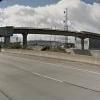Bridge: (5, 19, 89, 53)
